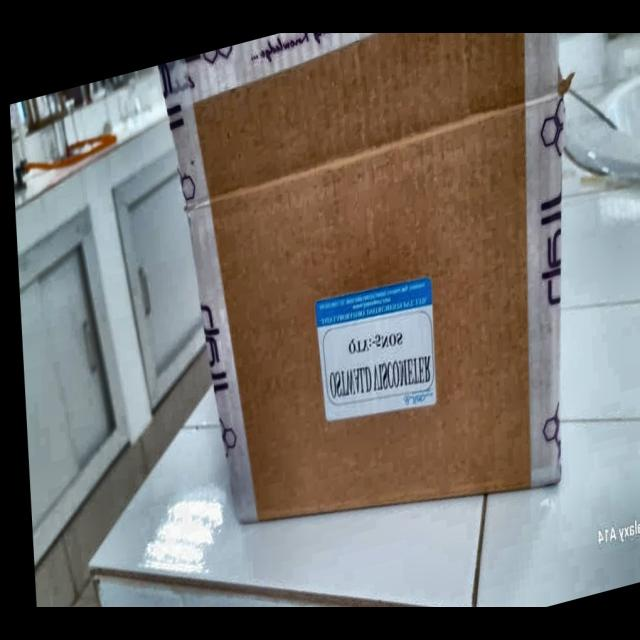Ostwald Viscometer: (212, 175, 562, 557)
